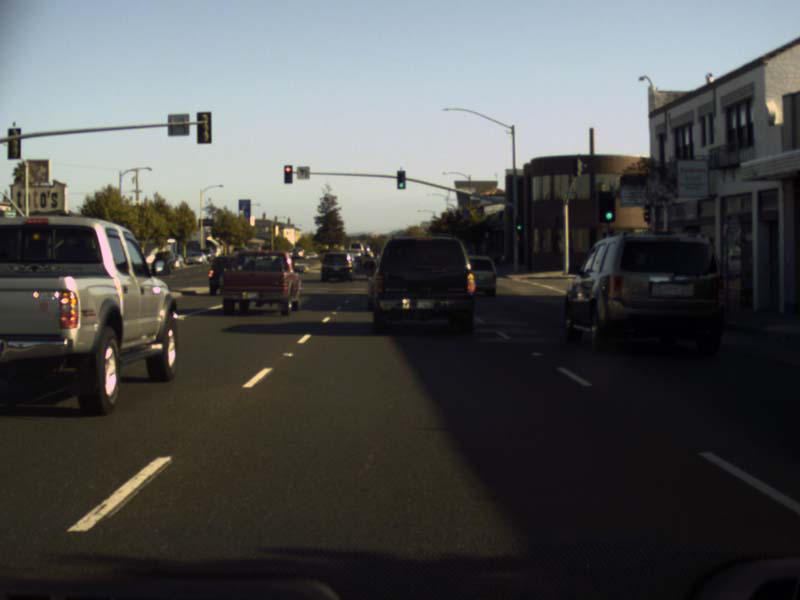Green: (601, 191, 614, 222), (397, 170, 405, 189), (515, 217, 521, 235)
Red: (283, 165, 293, 185)
